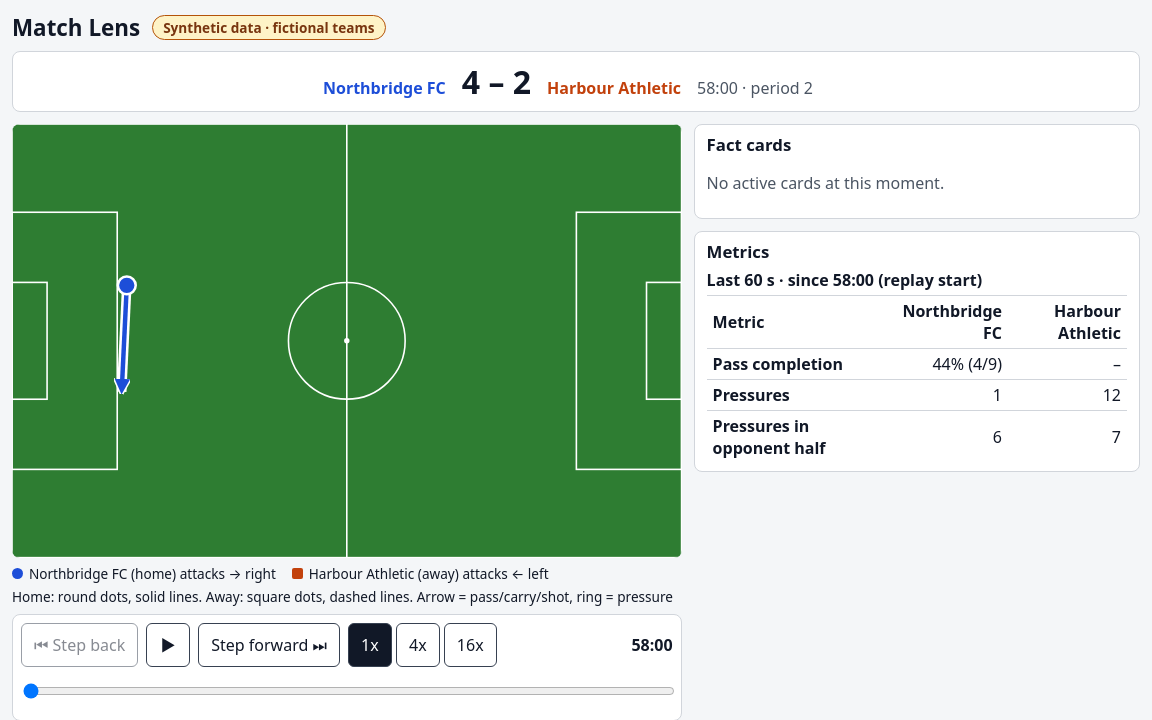
Test: replay controls › play advances the replay and the label flips to Pause
Expected: the slider named "Replay position" is shown, [23,675,675,707]
Click the button named "Speed 16x".
click(470, 645)  # box [444,623,497,667]
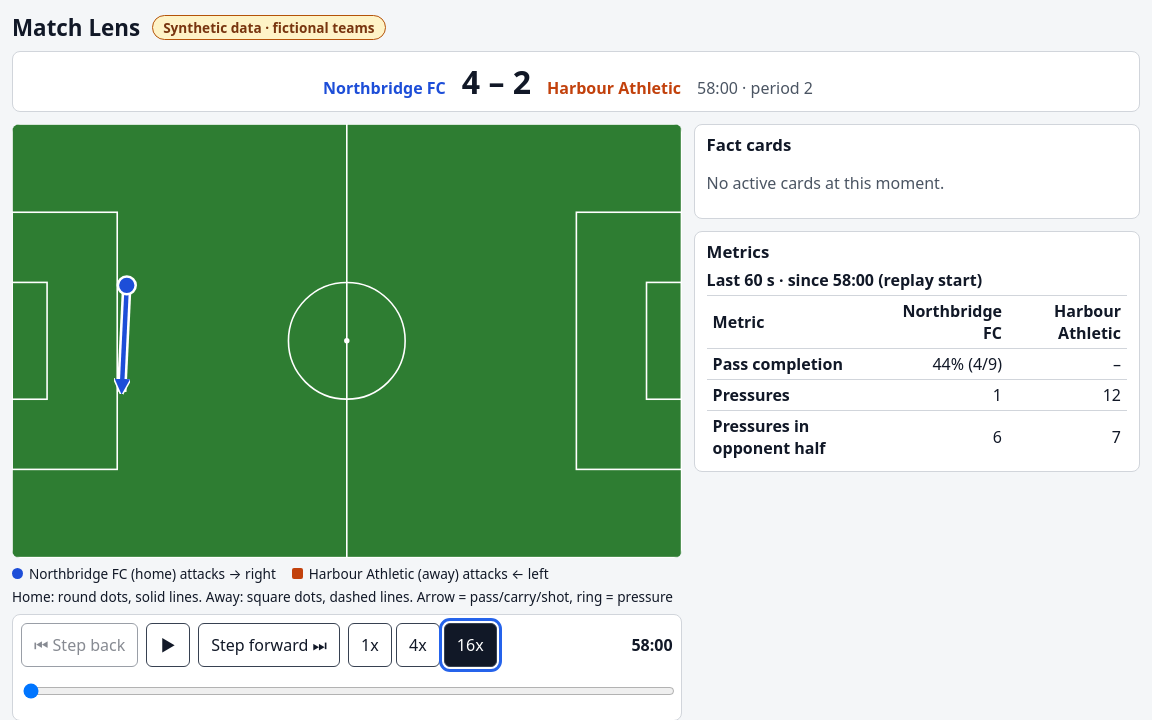
Click the button named "Play".
click(168, 645)  # box [146,623,190,667]
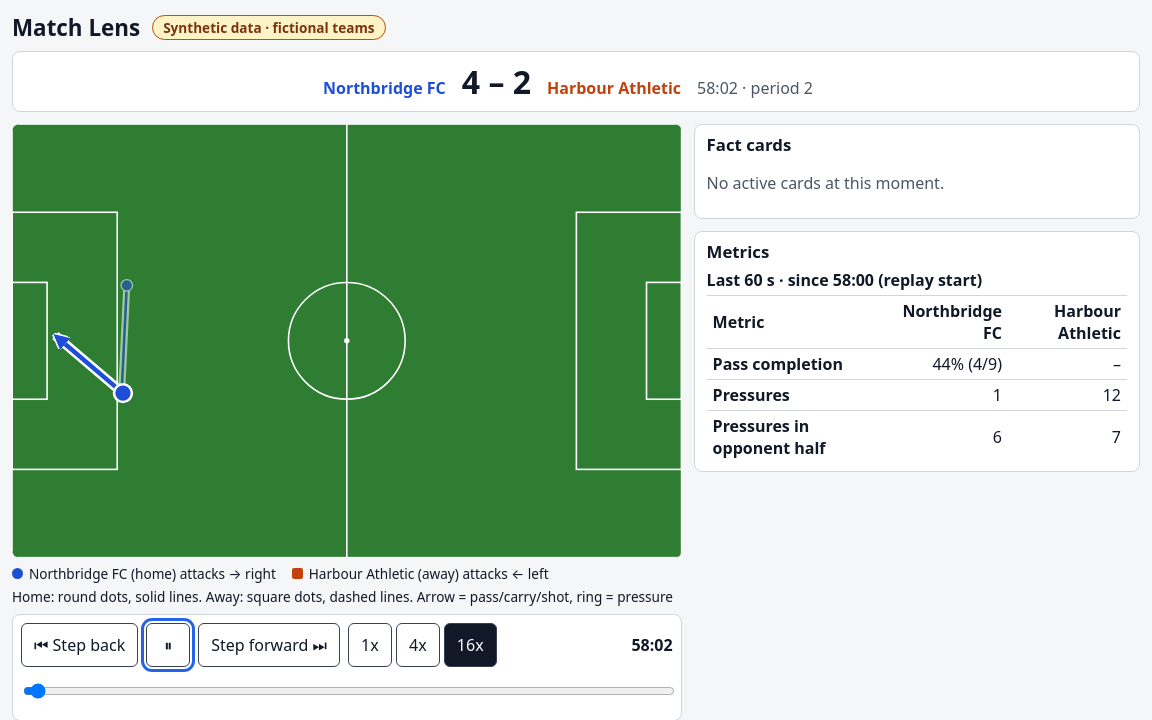
Now the button named "Pause" is shown
Click the button named "Pause".
click(168, 645)  # box [146,623,190,667]
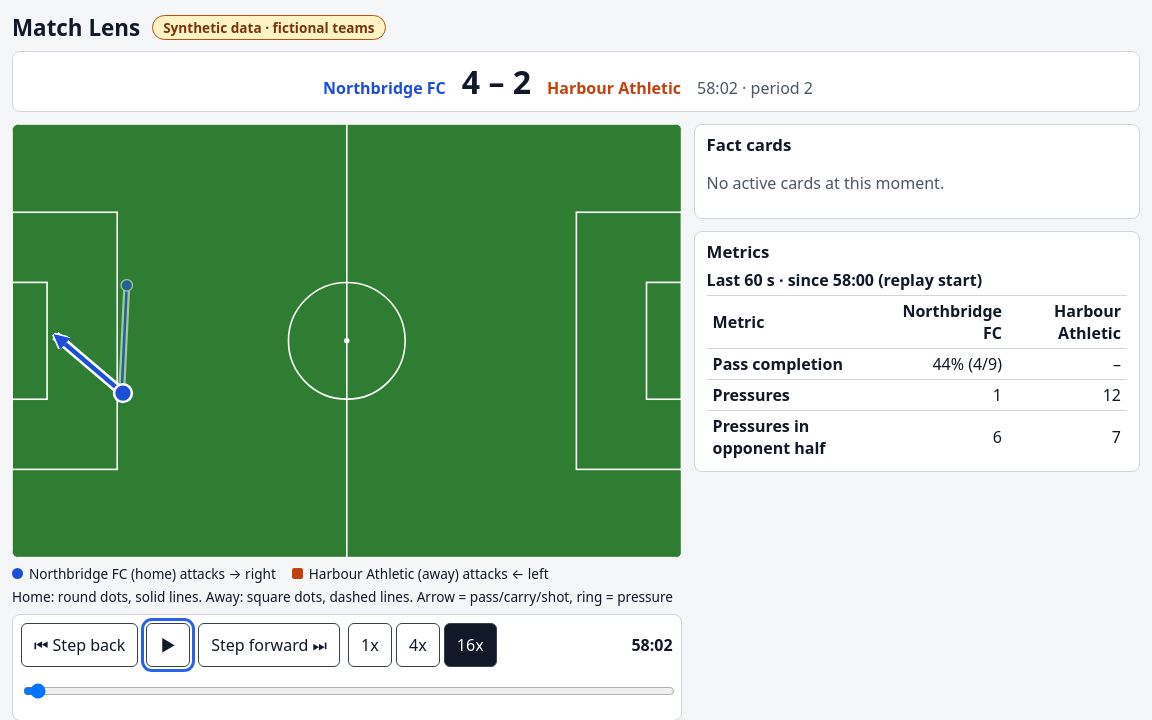
Now the button named "Play" is shown, box [146,623,190,667]
